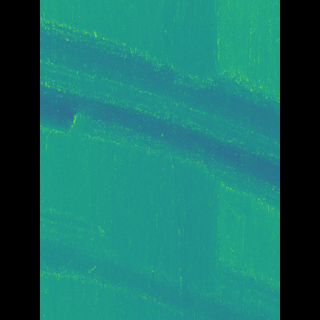Loch: (69, 13, 249, 210), (69, 207, 250, 320)
